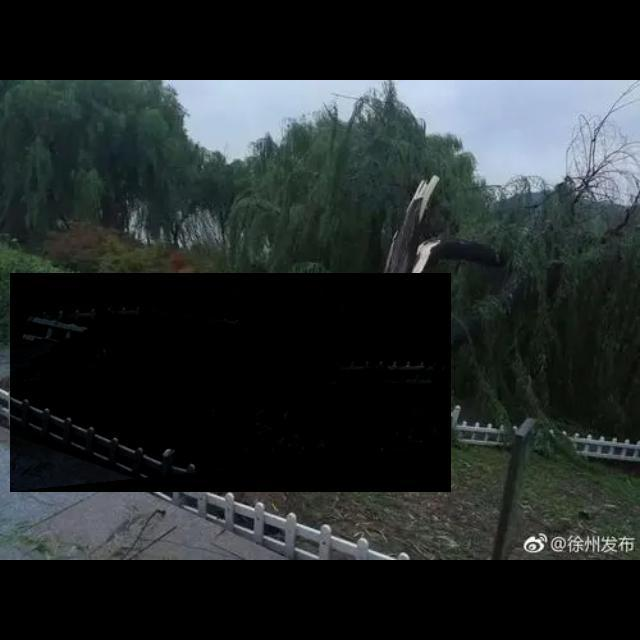fallen_tree: (10, 273, 452, 493)
